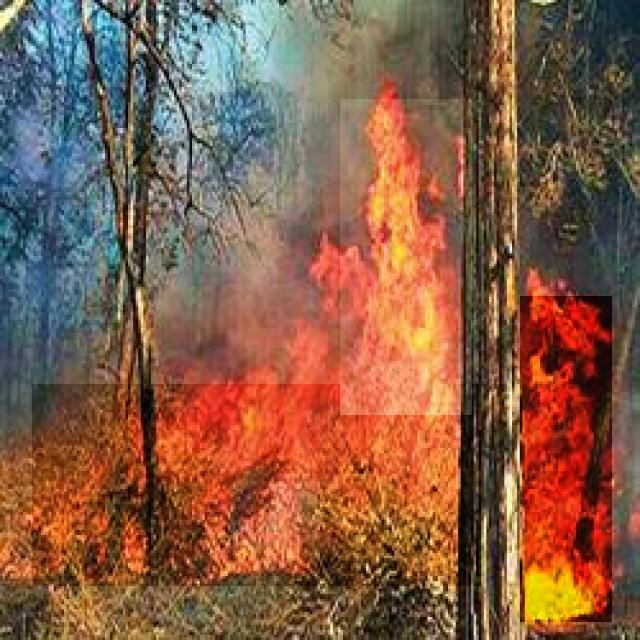Fire: (32, 384, 481, 586), (340, 99, 472, 415), (520, 296, 612, 622)
